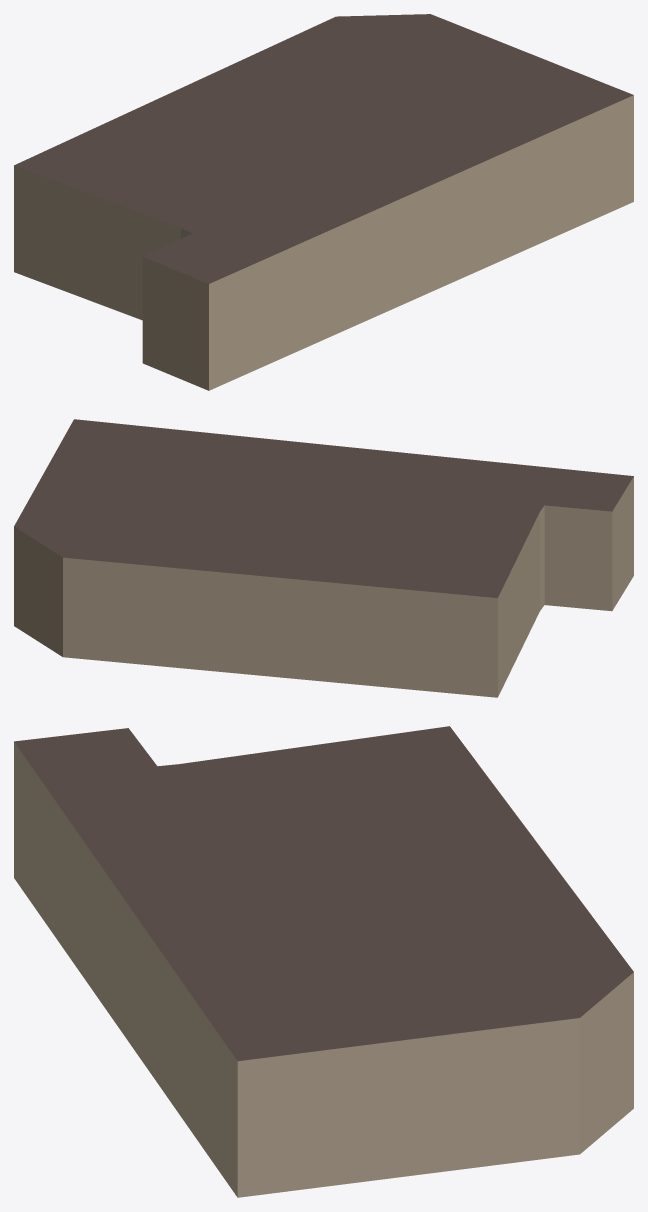
3 renders of one model, top to bottom at view 1: azimuth 30°, elevation 25°; view 2: azimuth 150°, elevation 25°; view 3: azimuth 270°, elevation 25°, orthographic. The views are drawn at different scales.
Visible parts, largest first — view 1: HP-w494958428; view 2: HP-w494958428; view 3: HP-w494958428.
Part boxes in pixels (x1,y1,x2,y2): HP-w494958428: (14, 14, 633, 390); HP-w494958428: (14, 419, 633, 697); HP-w494958428: (14, 726, 633, 1197).
Bounding box in the file's own units: 47.37 × 9 × 37.03.
